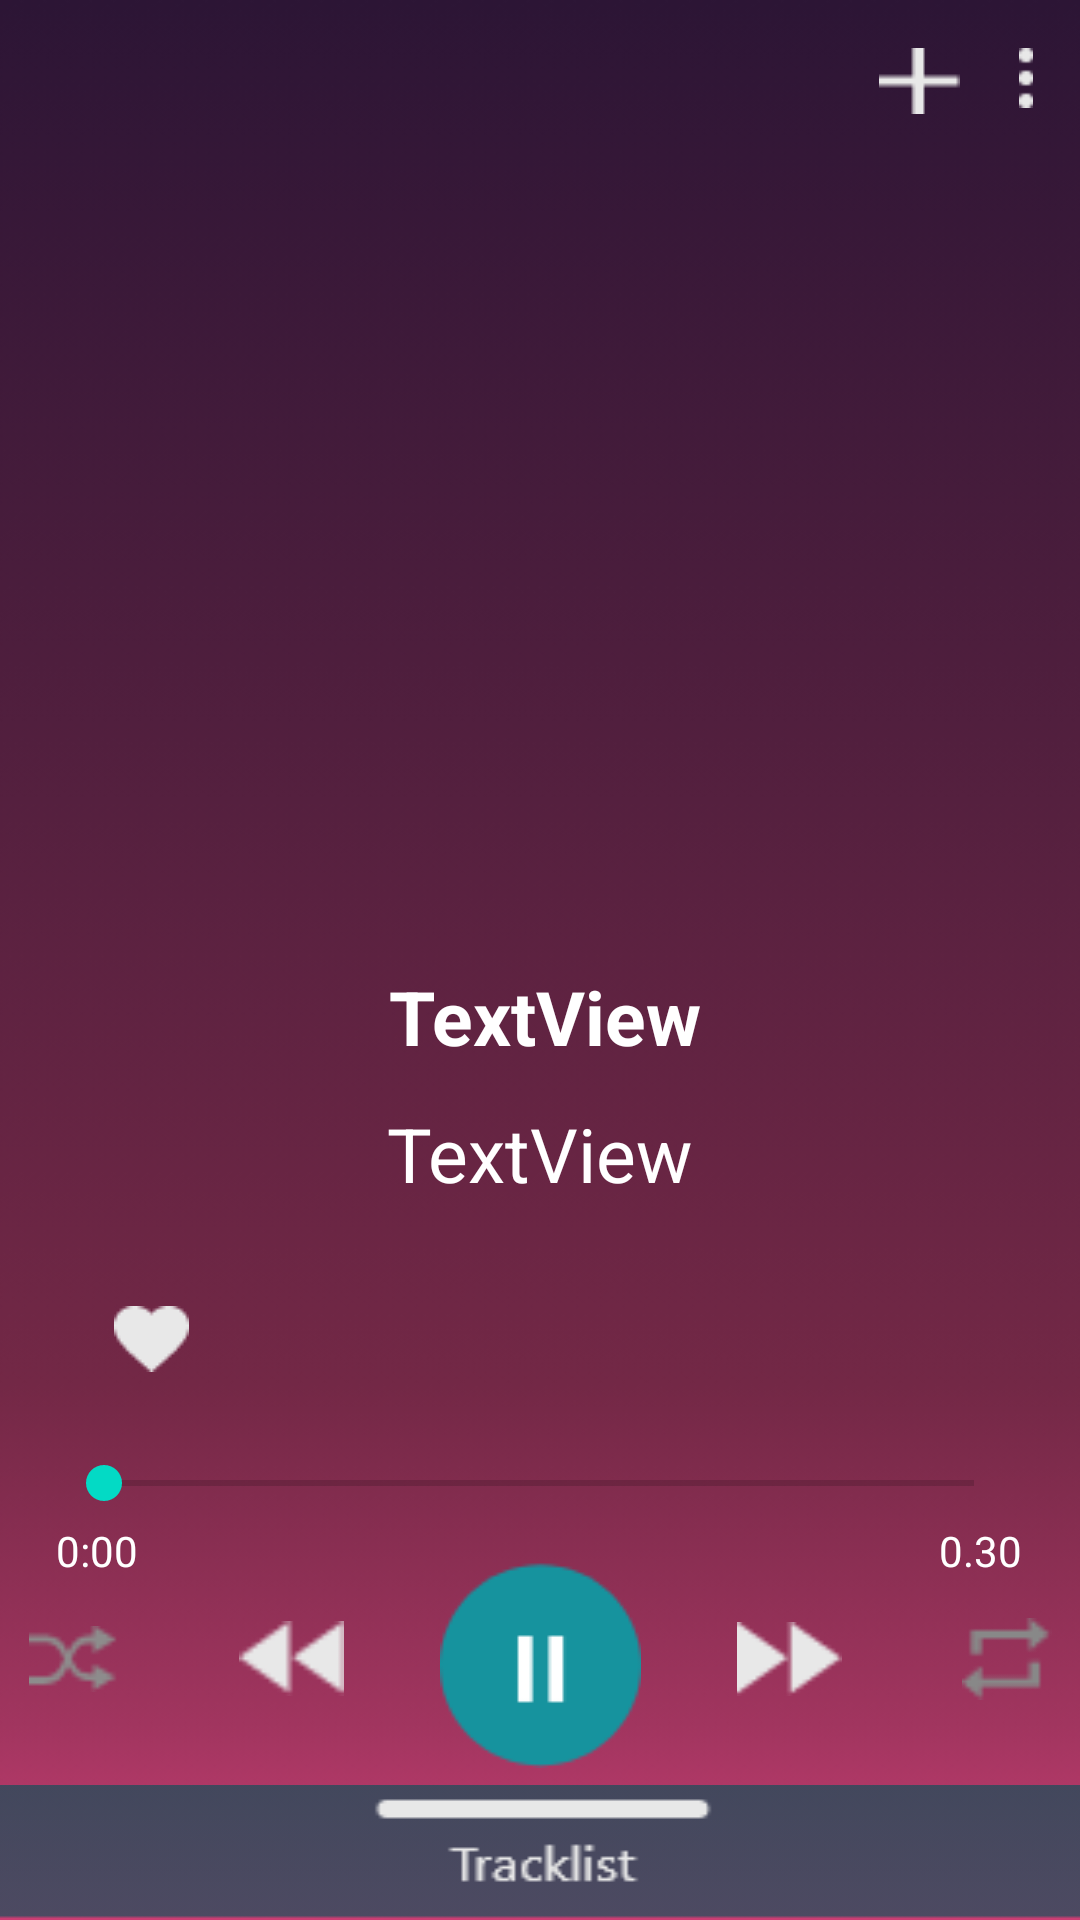

Icons on this 1080 x 1920 Android screen, each with its box as (x1, y1, x2, y2):
add: (879, 48, 960, 114)
heart: (114, 1306, 189, 1372)
pause: (440, 1563, 641, 1768)
repeat off: (962, 1618, 1048, 1698)
rewind back: (239, 1621, 344, 1693)
shuffle off: (29, 1626, 116, 1689)
skip forward: (737, 1622, 842, 1694)
three dots menu: (1019, 48, 1033, 108)
